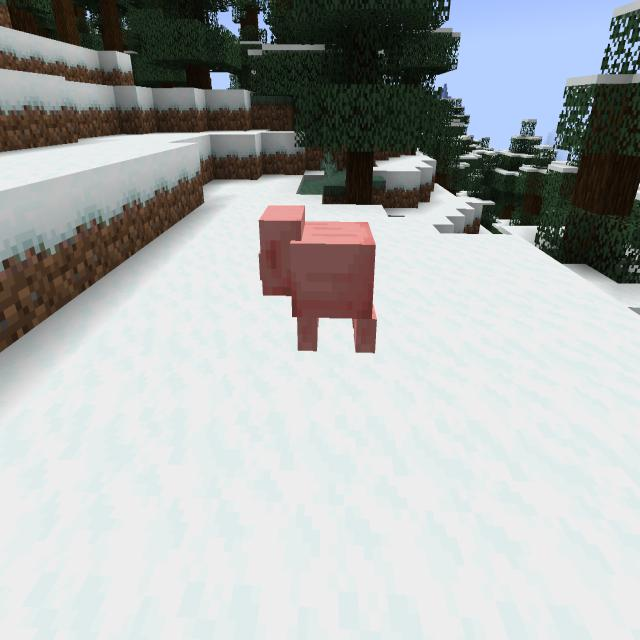pig: (251, 195, 387, 373)
